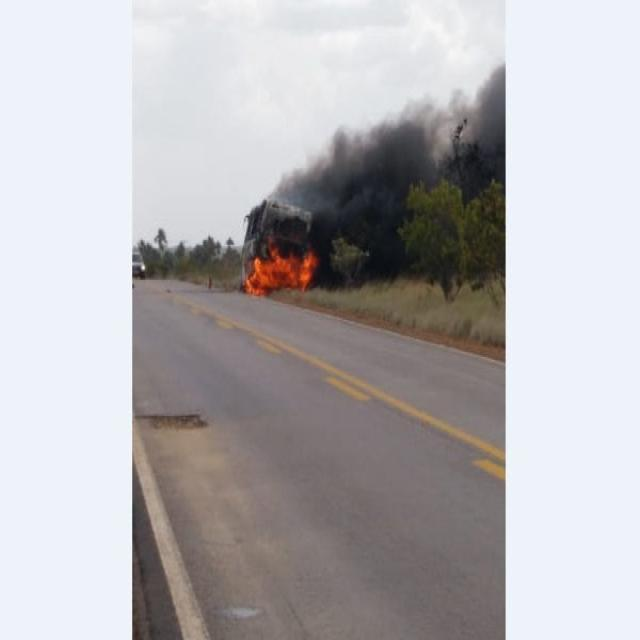Fire: (238, 234, 316, 296)
Smoke: (268, 58, 502, 238)
